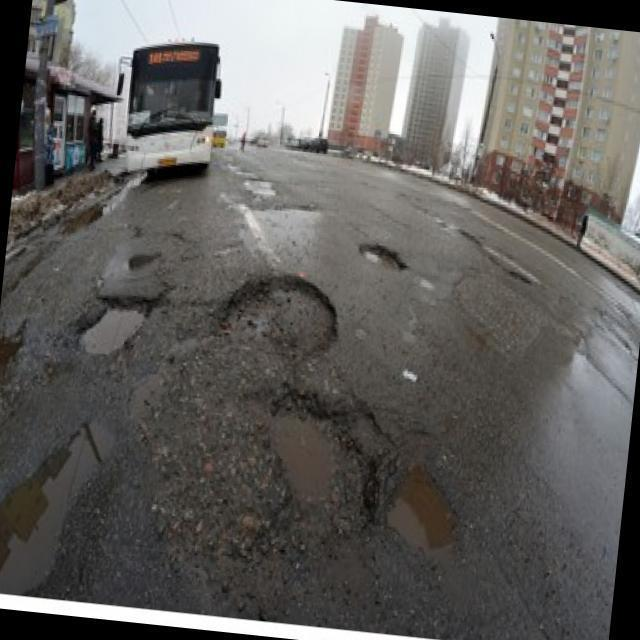pothole: (256, 386, 356, 512), (219, 269, 344, 364), (363, 447, 467, 556), (74, 288, 157, 364), (356, 241, 409, 273), (508, 269, 534, 288)
